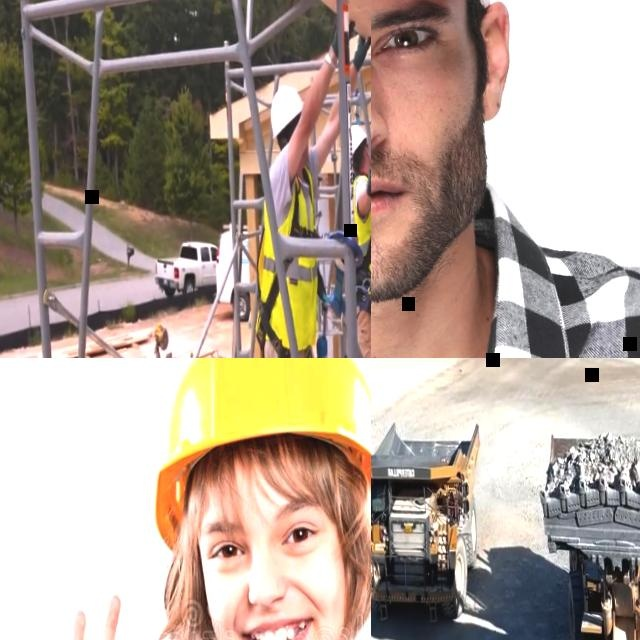Hardhat: (143, 358, 371, 542), (269, 84, 305, 137), (351, 122, 366, 151)
NO-Mask: (371, 139, 476, 305), (215, 603, 341, 640)
NO-Safety Vest: (371, 255, 640, 358)
Person: (27, 358, 371, 640), (371, 0, 640, 358), (235, 10, 371, 358), (347, 110, 371, 358)
Safety Vest: (250, 162, 320, 350), (351, 172, 371, 290)
machinery: (371, 409, 493, 637), (531, 420, 640, 640)
vehicle: (214, 221, 270, 322), (154, 239, 218, 296)
